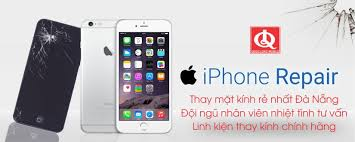iphone: (114, 16, 172, 138)
iphone4: (114, 15, 172, 137)
